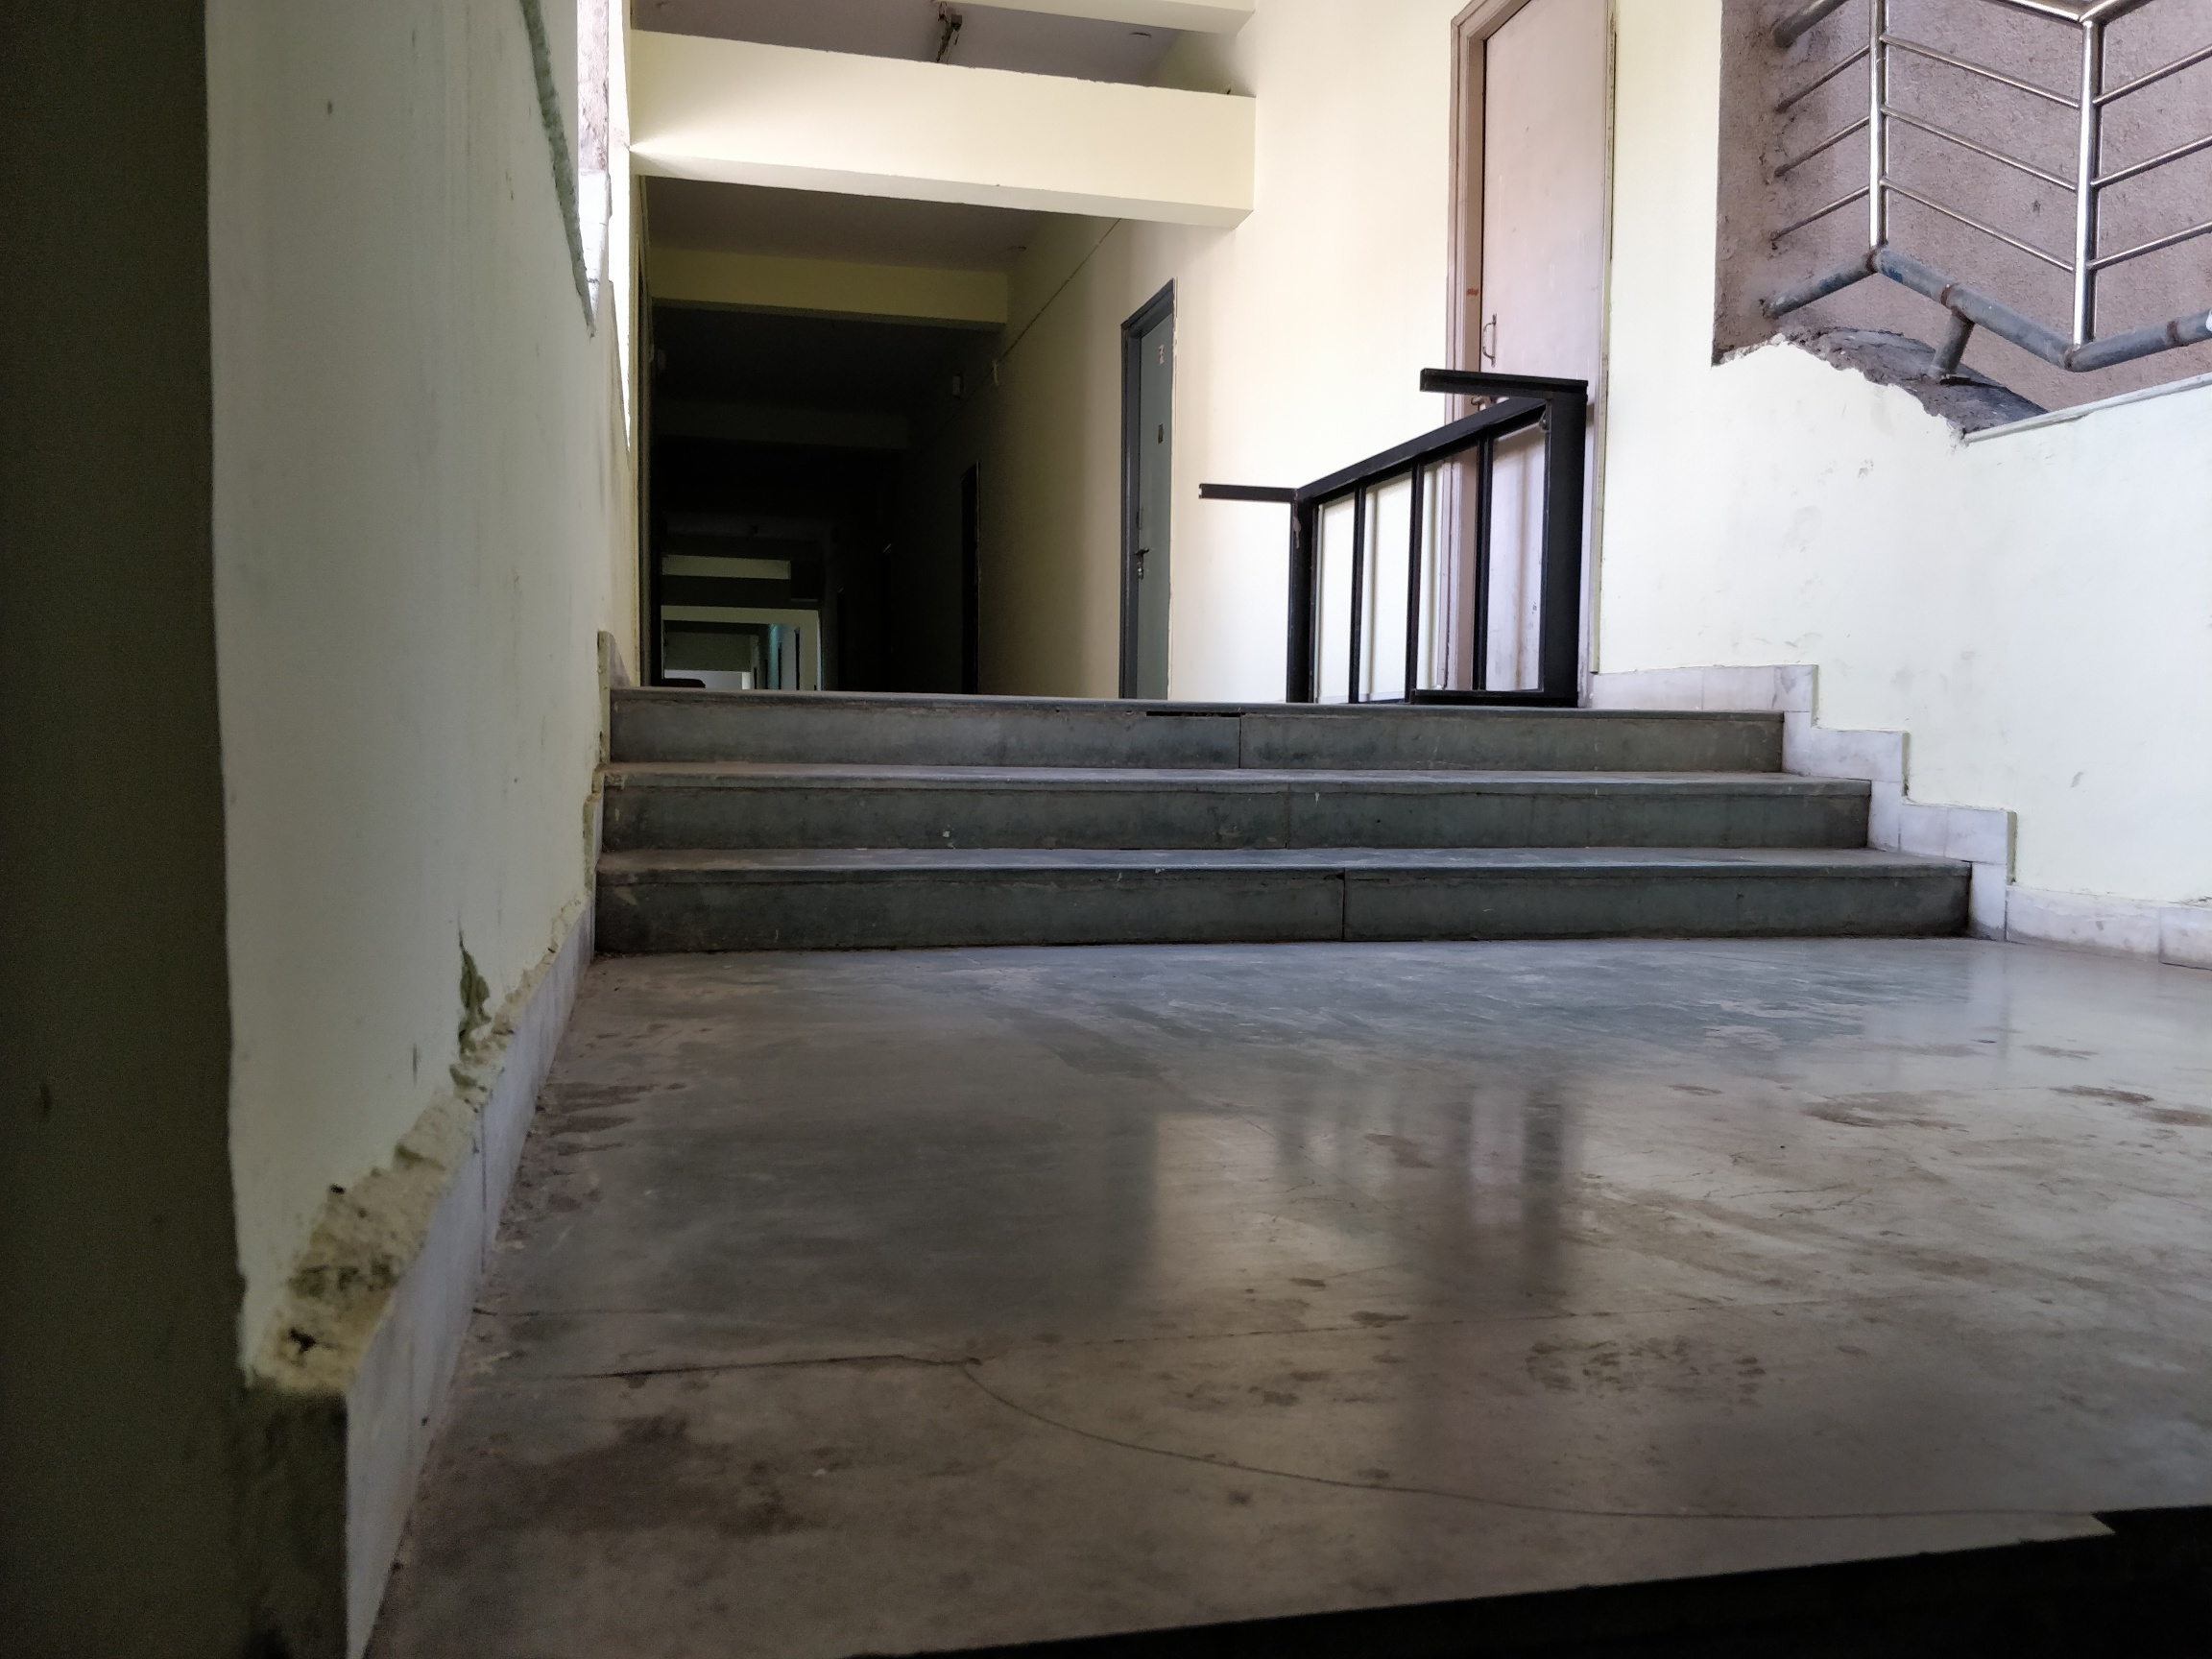stairs_up: (613, 680, 1975, 936)
